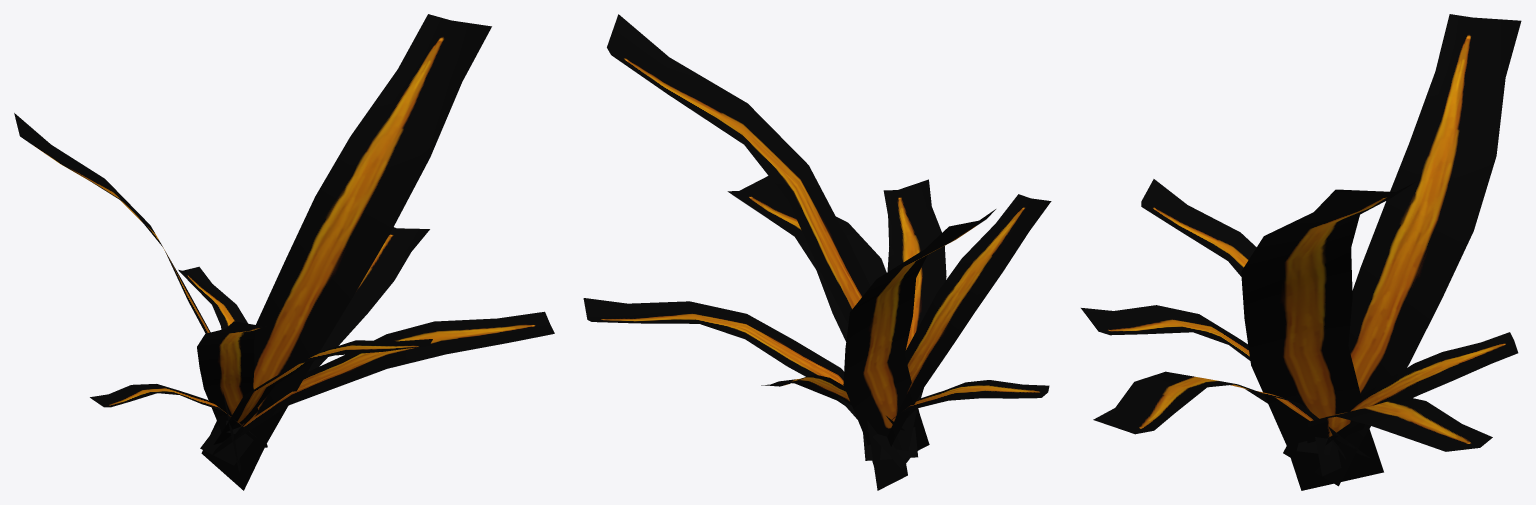
File: rumput 3.fbx
The picture shows the model from 3 angles, left to right: view 1: azimuth 30°, elevation 25°; view 2: azimuth 150°, elevation 25°; view 3: azimuth 270°, elevation 25°; orthographic projection. The views are drawn at different scales.
Visible parts, largest first — view 1: Rumput 3; view 2: Rumput 3; view 3: Rumput 3.
Boxes of the visible parts, bbox=[...] form: Rumput 3: bbox=[14, 14, 554, 490]; Rumput 3: bbox=[583, 14, 1051, 490]; Rumput 3: bbox=[1081, 14, 1521, 490].
Size of the model in its own units: 252 by 227 by 201.
1 material, 1 textured.
